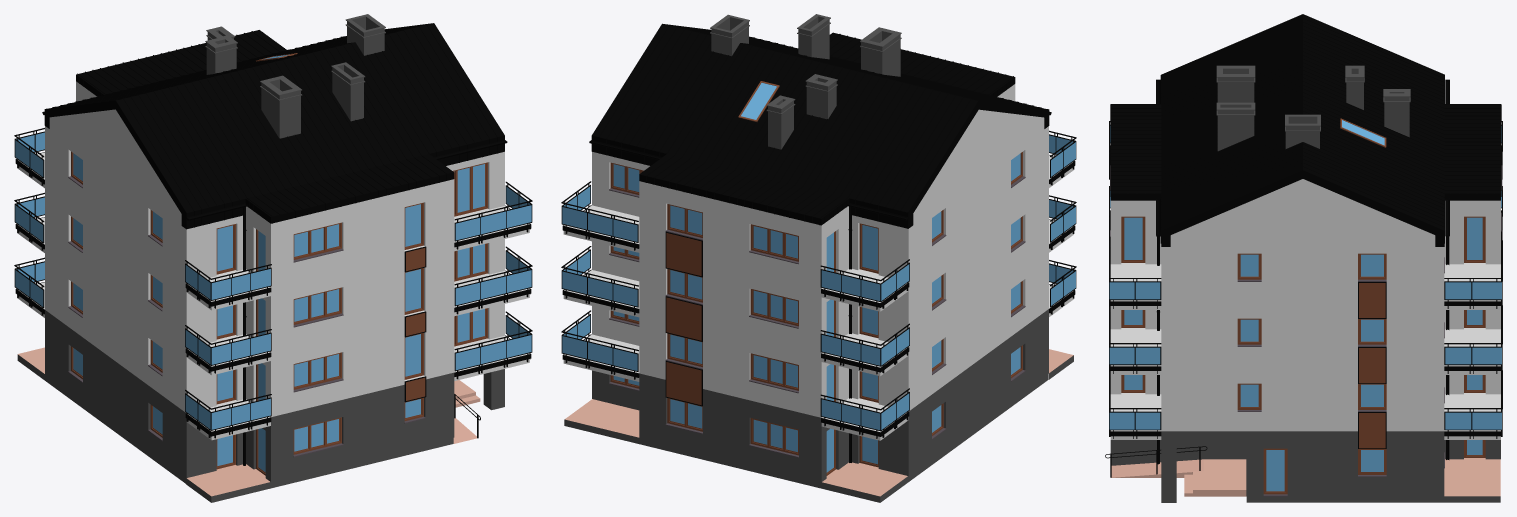
The model's file is building_04_nopack.fbx.
3 renders of one model, left to right at view 1: azimuth 30°, elevation 25°; view 2: azimuth 150°, elevation 25°; view 3: azimuth 270°, elevation 25°, orthographic.
Parts seen in each view (by area): view 1: roof; view 2: roof; view 3: roof.
Boxes of the visible parts, <box> form: roof: <box>14,14,532,502</box>; roof: <box>561,14,1076,502</box>; roof: <box>1105,14,1502,502</box>.
Bounding box in the file's own units: 1555 × 1611 × 1663.
